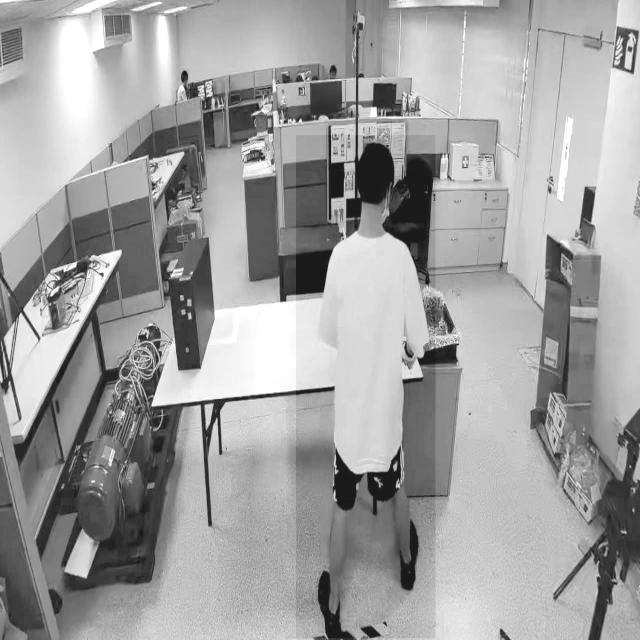head_nohelmet: (358, 140, 394, 176), (182, 70, 188, 76)
person: (296, 135, 436, 639)
shoes: (315, 567, 346, 640), (396, 514, 422, 594)
